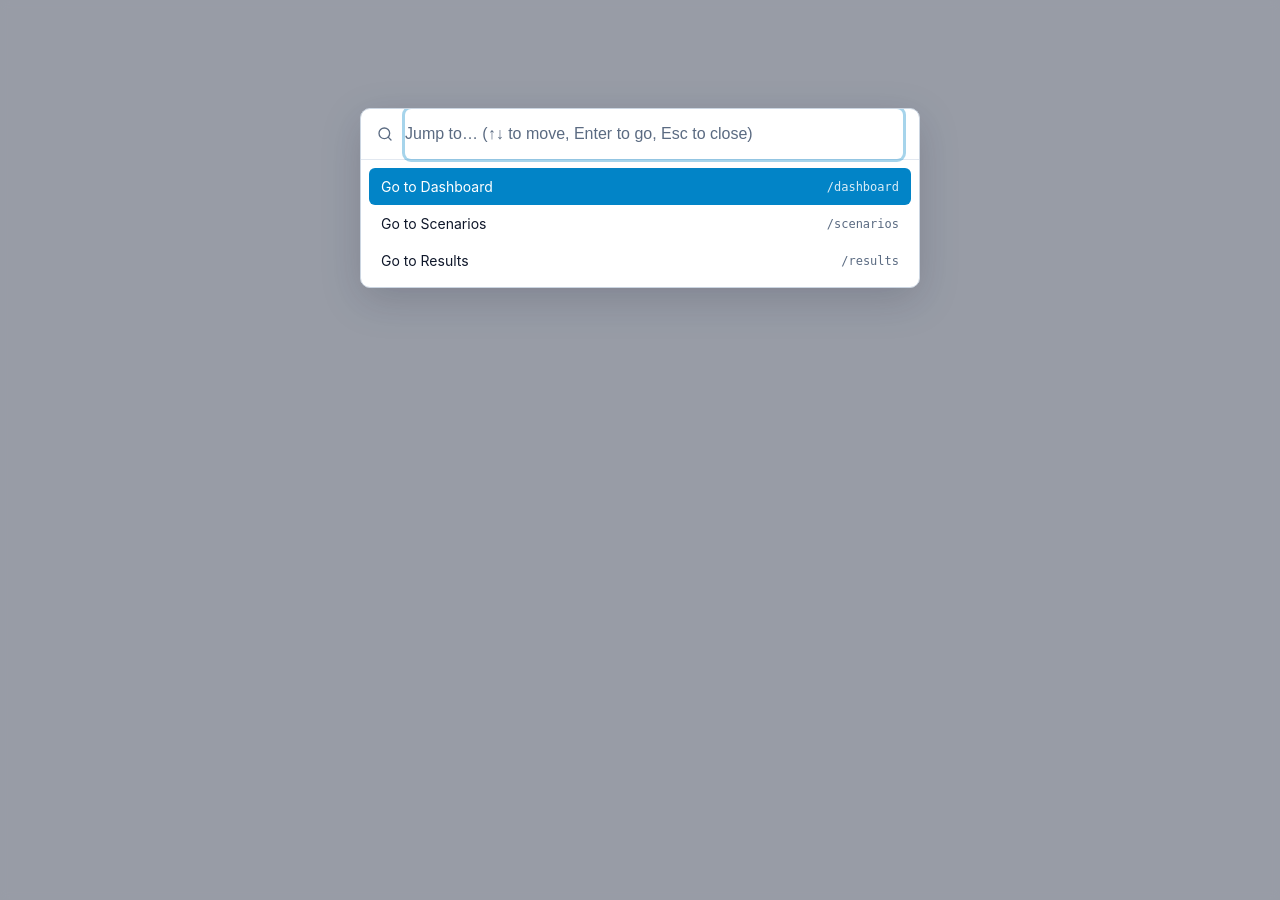
Test: CommandPalette › shows a no-matches message for a query that hits nothing
This screenshot has width=1280, height=900.
Type "zzzzz" into the dropdown.
click(654, 134); type("zzzzz")  # box [405,109,903,159]
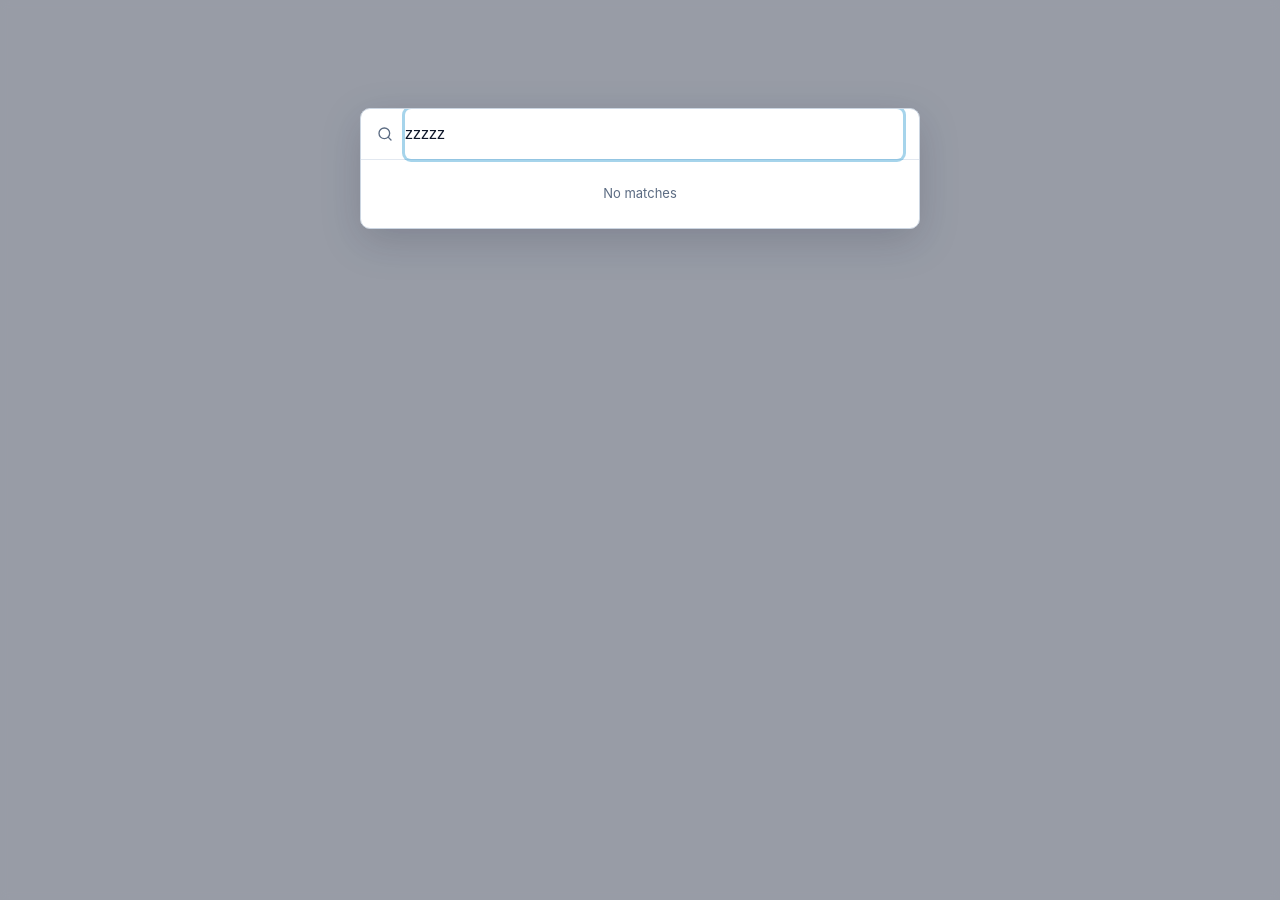
Now the option "No matches" is shown, box [603,185,677,201]
